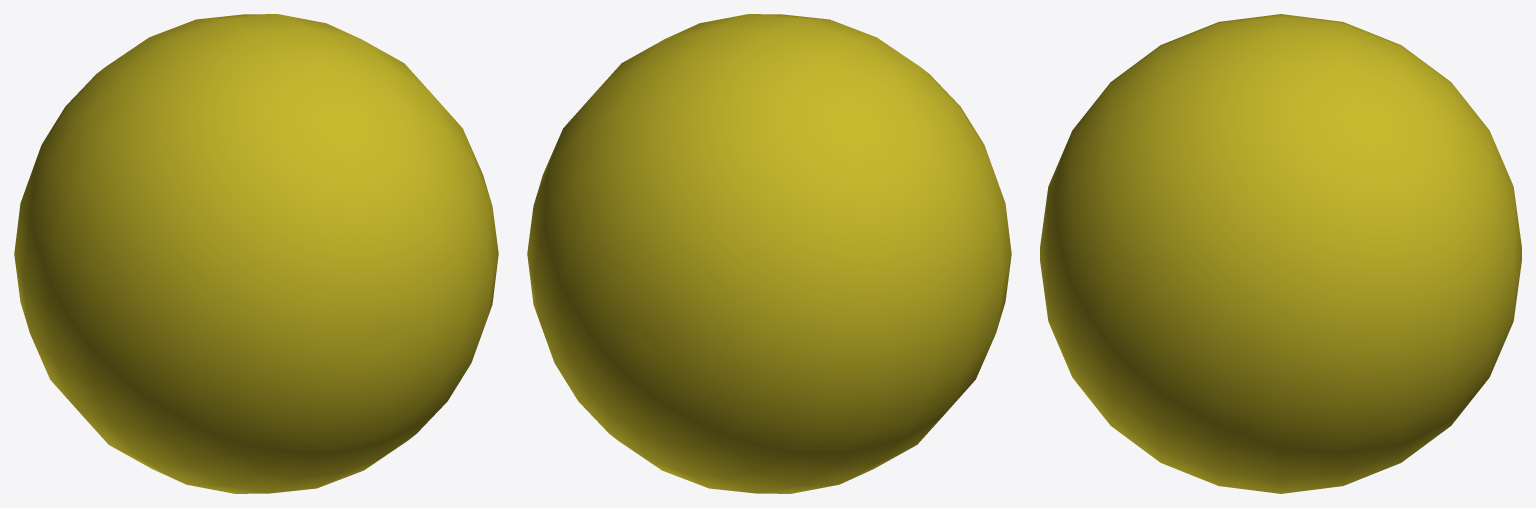
File: Explosion.glb
3 views of the same model, side by side, from view 1: azimuth 30°, elevation 25°; view 2: azimuth 150°, elevation 25°; view 3: azimuth 270°, elevation 25° (orthographic).
Parts seen in each view (by area): view 1: mergedBlocks(Clone); view 2: mergedBlocks(Clone); view 3: mergedBlocks(Clone).
Boxes of the visible parts, x1=… form: mergedBlocks(Clone): x1=14, y1=14, x2=498, y2=493; mergedBlocks(Clone): x1=527, y1=14, x2=1011, y2=493; mergedBlocks(Clone): x1=1040, y1=14, x2=1521, y2=493.
Size of the model in its own units: 1 by 1 by 1.
